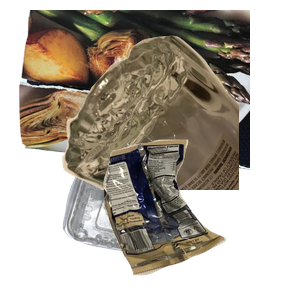glass: (60, 33, 300, 213)
paper: (16, 10, 256, 172)
plastic: (60, 136, 237, 300)
trash: (101, 137, 300, 300)
